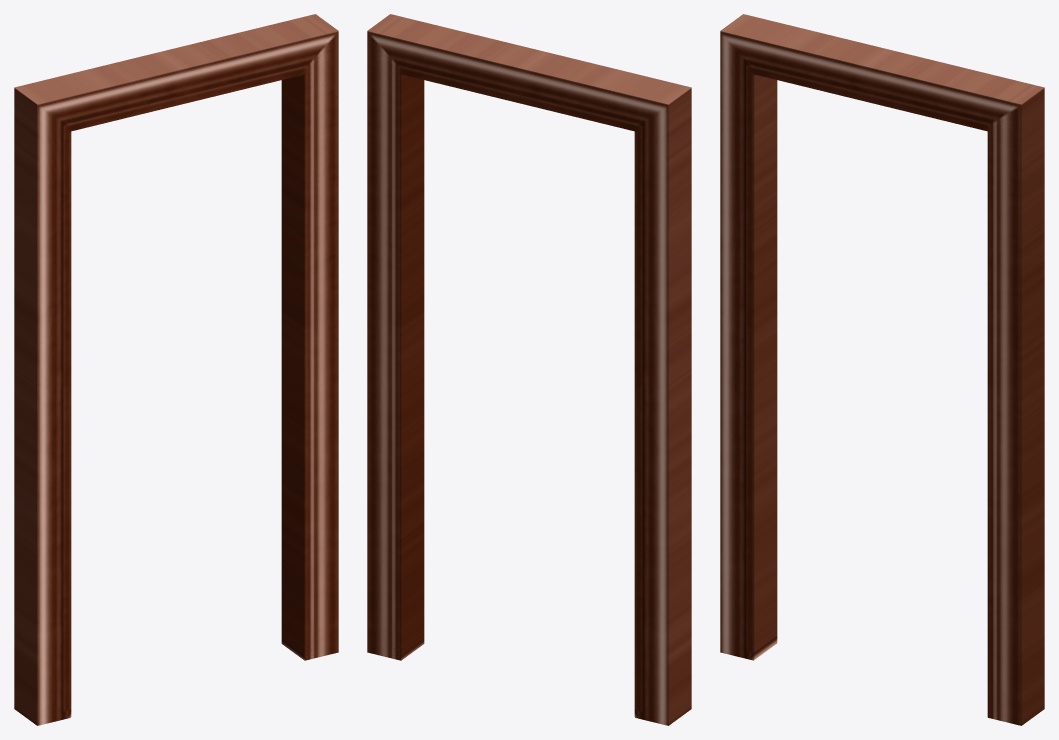
Rendered from Door_B_Frame.fbx.
3 views of the same model, side by side, from view 1: azimuth 30°, elevation 25°; view 2: azimuth 150°, elevation 25°; view 3: azimuth 330°, elevation 25° (orthographic).
Parts seen in each view (by area): view 1: DootframeB; view 2: DootframeB; view 3: DootframeB.
Part boxes in pixels (x1,y1,x2,y2): DootframeB: (14, 14, 338, 725); DootframeB: (367, 14, 691, 725); DootframeB: (720, 14, 1044, 725).
Bounding box in the file's own units: 99.03 × 195 × 13.23.
